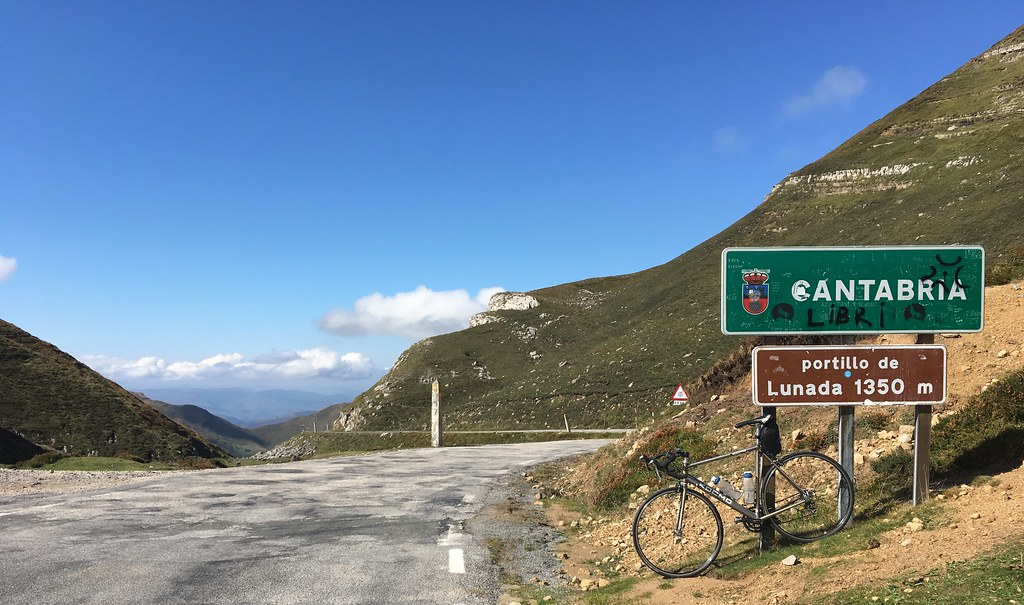cycle: (614, 413, 868, 563)
